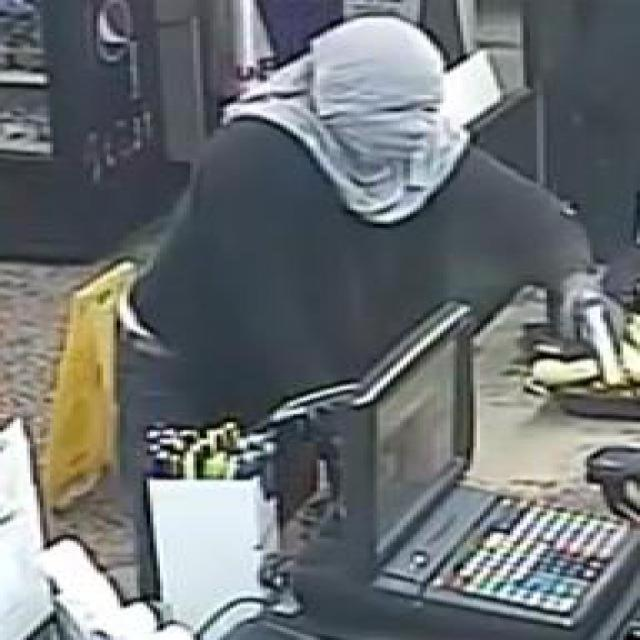weapon: (572, 296, 624, 391)
